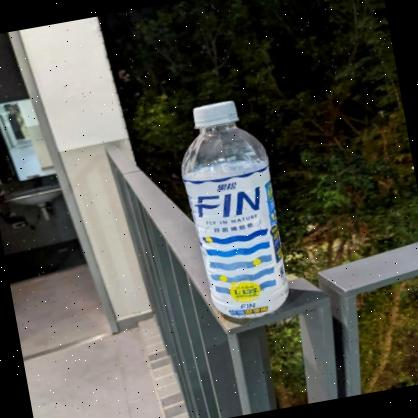bottle: (162, 83, 306, 332)
cap: (188, 94, 242, 134)
label: (183, 162, 293, 320)
